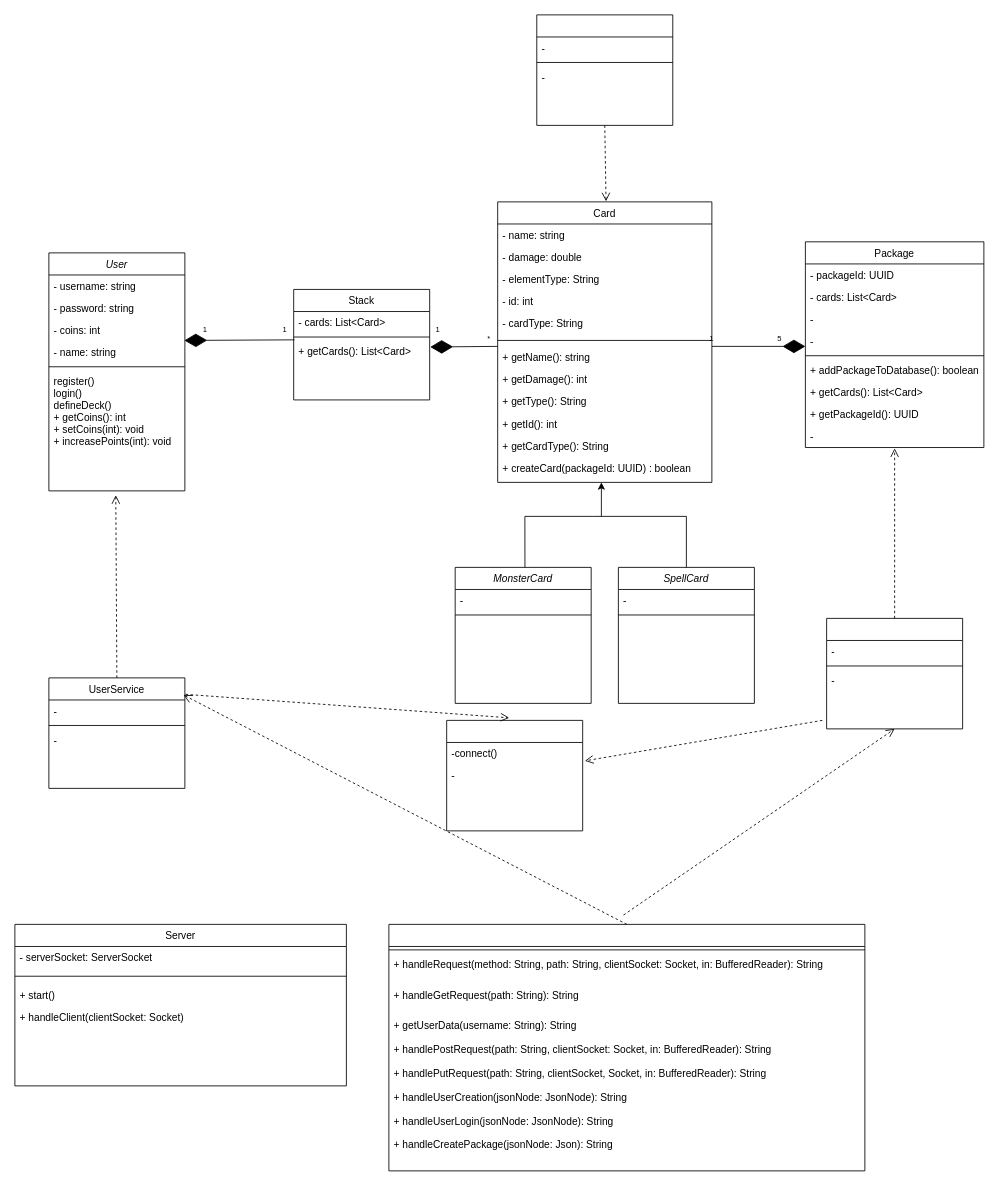
The diagram is 999 pixels wide and 1186 high, and some of its shapes have lost their labels. Here are the shapes that lost their labels. From the top down, the box of each, then its label:
(536, 14, 673, 125): CardFactory
(826, 618, 963, 729): PackageService
(446, 720, 583, 831): Database
(388, 924, 865, 1171): RequestHandler
